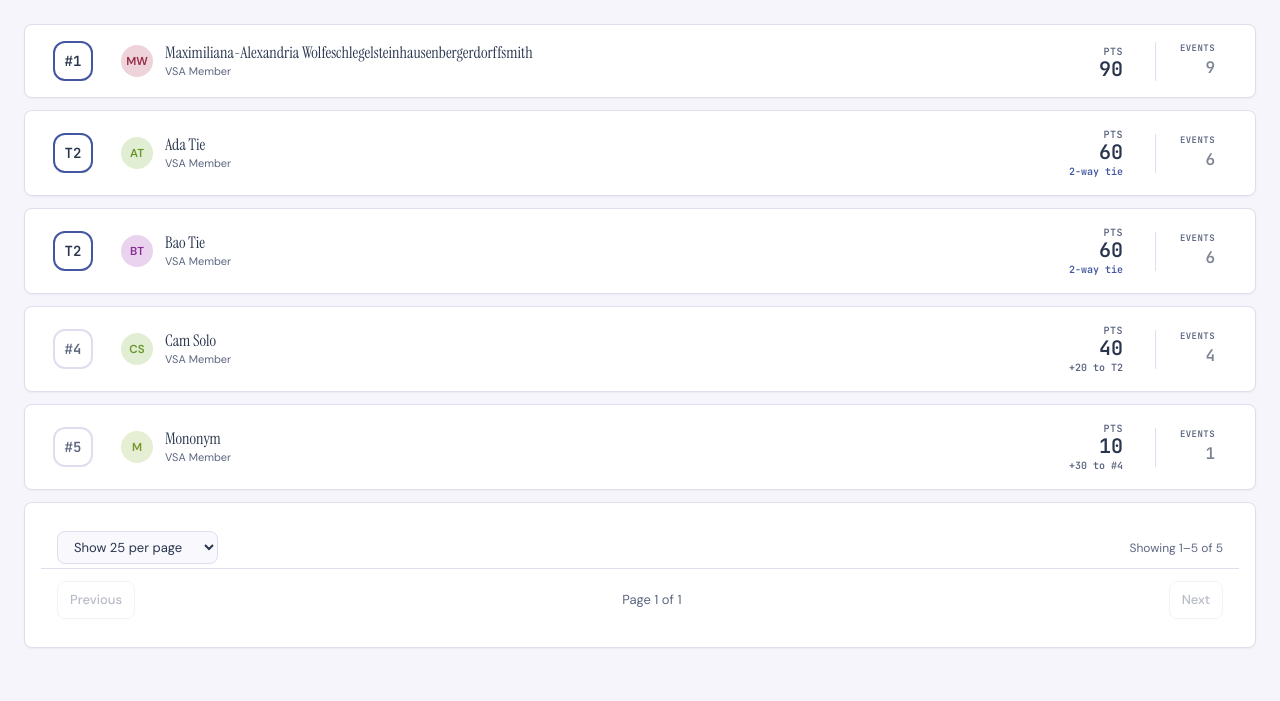
Test: Leaderboard member profile on phones › starts expanded on larger screens
(page scrolled)
Click the button with aria-label "Open profile for Cam Solo". click: (191, 341)
box: [165, 331, 216, 351]
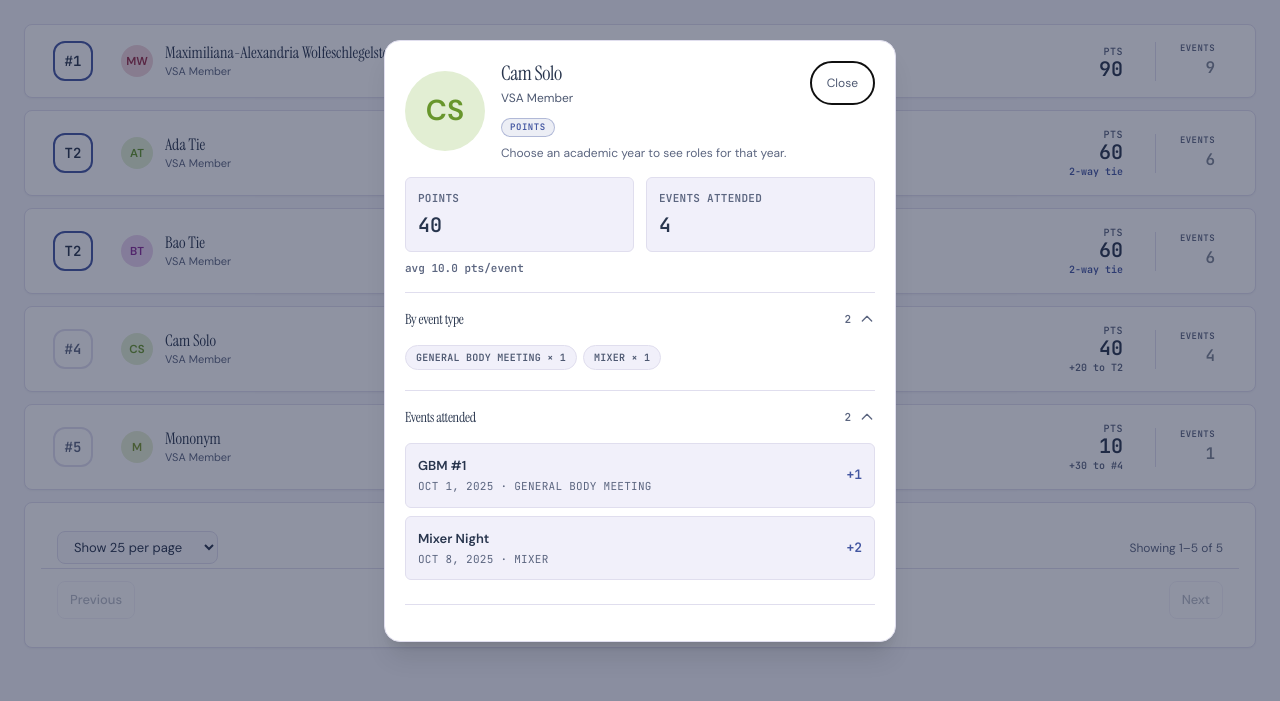
Expected: the text "GBM #1" is shown, [418, 457, 466, 474]
